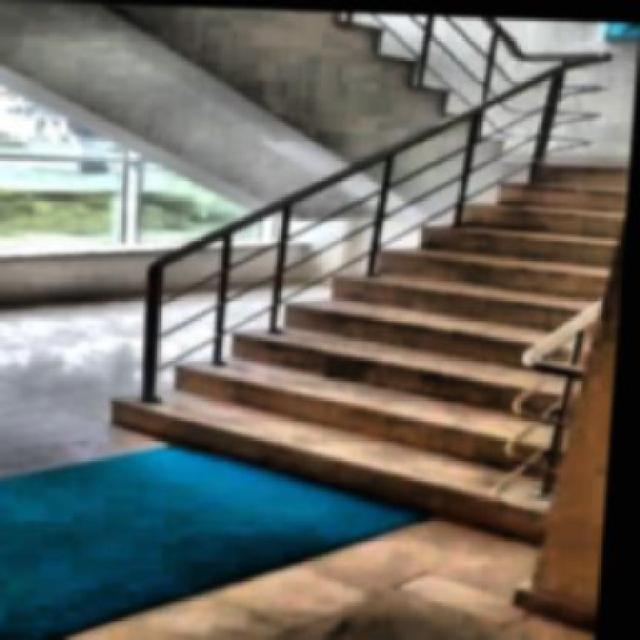stair: (57, 94, 634, 571)
